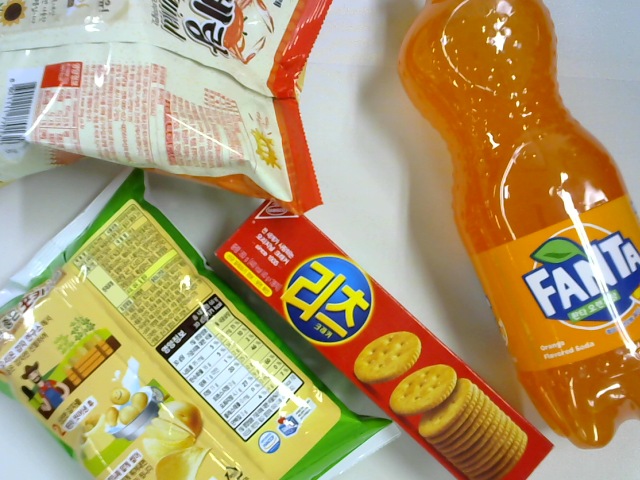Crabrang: (1, 1, 335, 218)
Hwanta_Orange_1.5L: (396, 2, 640, 449)
Pocachip_Onion: (1, 166, 400, 480)
Ritz_Cracker: (213, 198, 556, 480)
